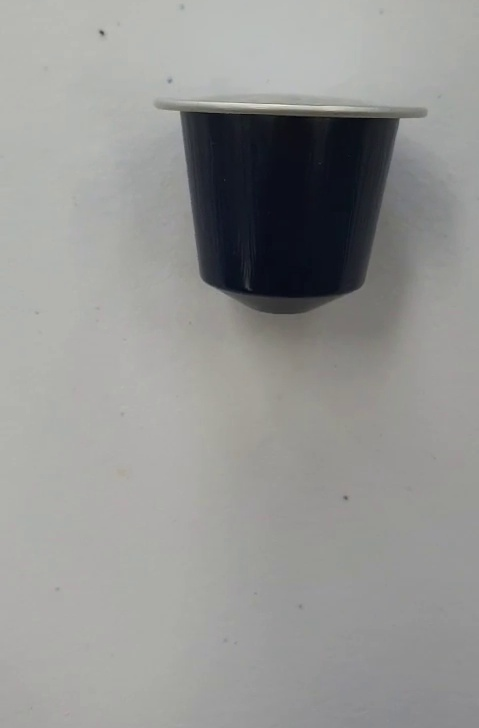capsule_1: (153, 97, 427, 318)
